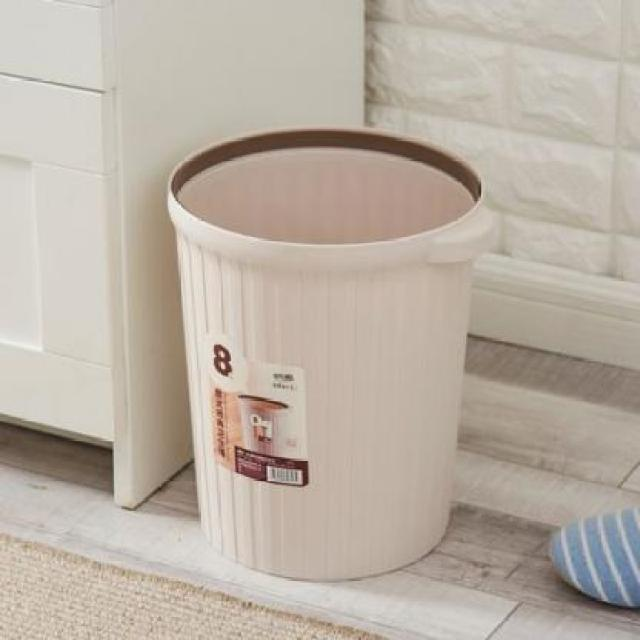dustbin: (163, 127, 508, 586)
